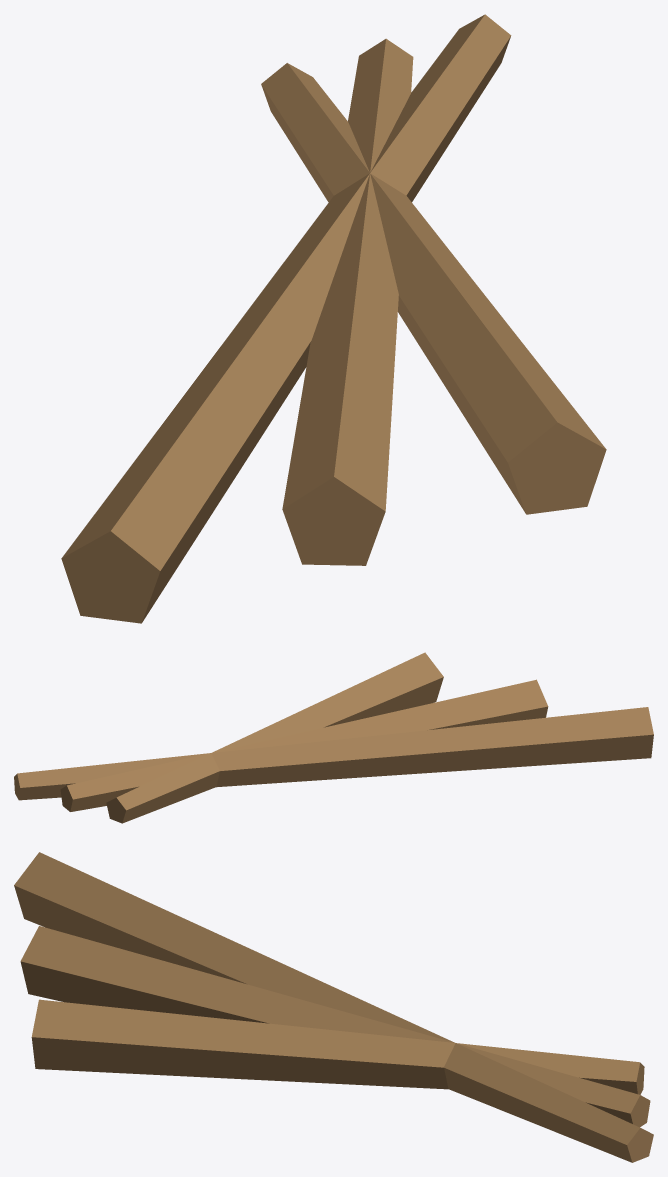
File: enfeite_raiz_chao.glb
3 views of the same model, one above another, from view 1: azimuth 30°, elevation 25°; view 2: azimuth 150°, elevation 25°; view 3: azimuth 270°, elevation 25° (orthographic). The views are drawn at different scales.
Visible parts, largest first — view 1: deserto_enfeite_raiz_chao; view 2: deserto_enfeite_raiz_chao; view 3: deserto_enfeite_raiz_chao.
Boxes of the visible parts, x1,y1,x2,y2 form: deserto_enfeite_raiz_chao: (61,14,606,623); deserto_enfeite_raiz_chao: (14,652,653,823); deserto_enfeite_raiz_chao: (14,852,653,1162).
Size of the model in its own units: 0.3489 by 0.0344 by 0.3301.
